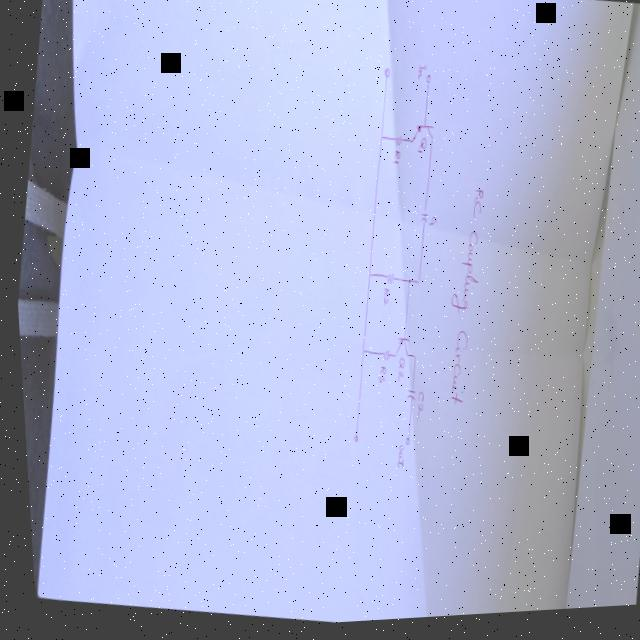capacitor: (416, 213, 427, 232), (399, 391, 412, 406)
junction: (356, 352, 361, 359), (364, 275, 369, 282), (377, 138, 382, 145), (413, 282, 417, 290), (408, 359, 413, 365), (404, 283, 408, 289)
resistor: (380, 275, 392, 290), (375, 352, 386, 366), (390, 139, 401, 152)
terminal: (381, 71, 390, 85), (423, 77, 431, 91), (398, 439, 404, 450), (347, 437, 353, 447)
text: (425, 191, 494, 415), (388, 447, 401, 475), (409, 394, 420, 427), (390, 360, 401, 388), (414, 141, 426, 160), (376, 291, 386, 312), (388, 153, 399, 171), (415, 68, 425, 87), (372, 369, 382, 388), (425, 220, 434, 231)
transistor: (408, 127, 434, 152), (388, 339, 407, 365)
